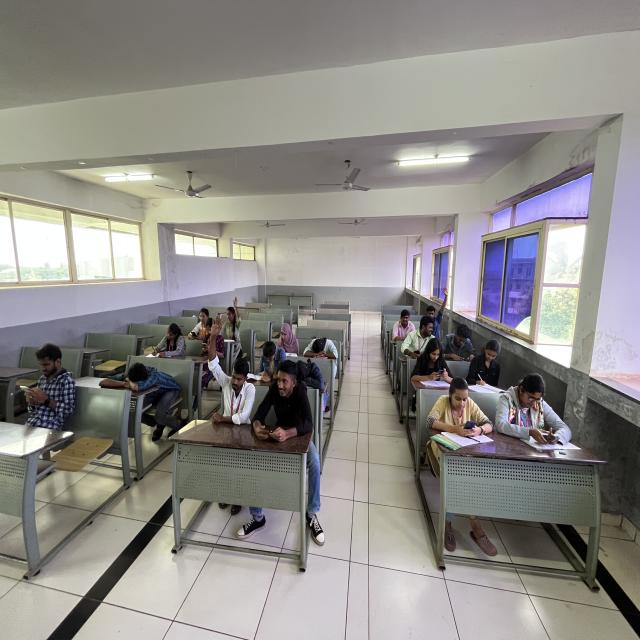Hand Rising: (206, 310, 256, 422), (425, 282, 451, 335), (221, 291, 245, 345)
Reading: (279, 309, 304, 358)
Sleeping: (95, 354, 175, 405), (290, 350, 340, 400), (302, 320, 340, 368)
Using Phone: (9, 324, 77, 435), (501, 367, 569, 442), (252, 372, 309, 440), (432, 375, 494, 437), (440, 313, 478, 370), (410, 338, 455, 381), (405, 312, 438, 358), (186, 303, 212, 339), (199, 318, 221, 355)
Writing: (140, 316, 187, 370), (472, 330, 511, 394), (247, 331, 286, 381)
